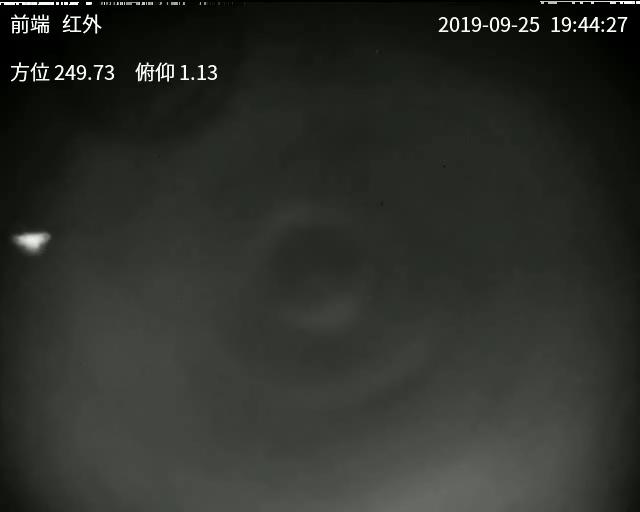uav: (9, 229, 49, 256)
